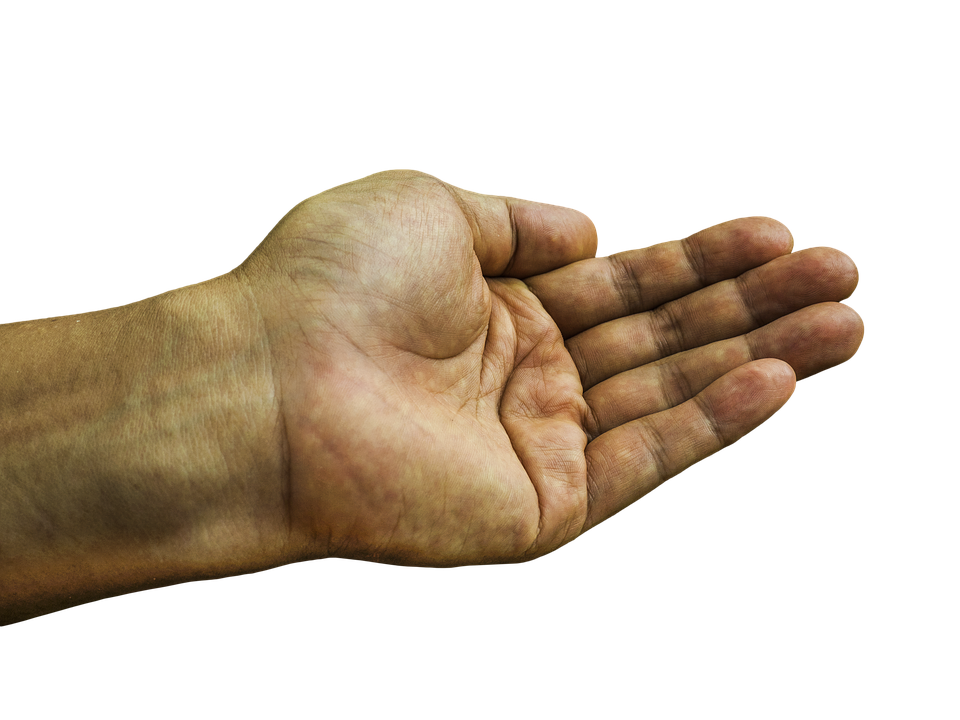hand: (236, 152, 888, 578)
